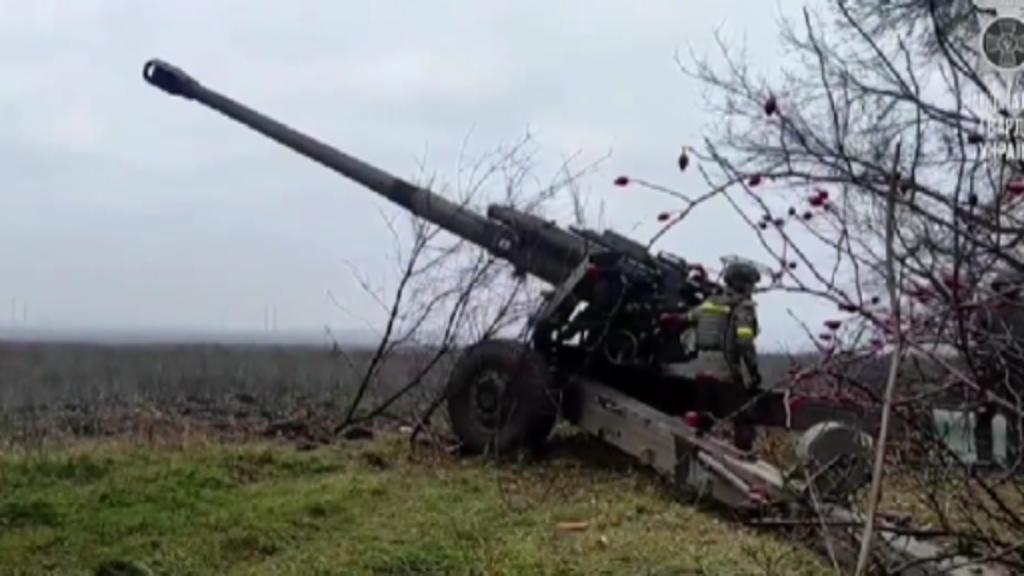ART: (140, 55, 1022, 574)
